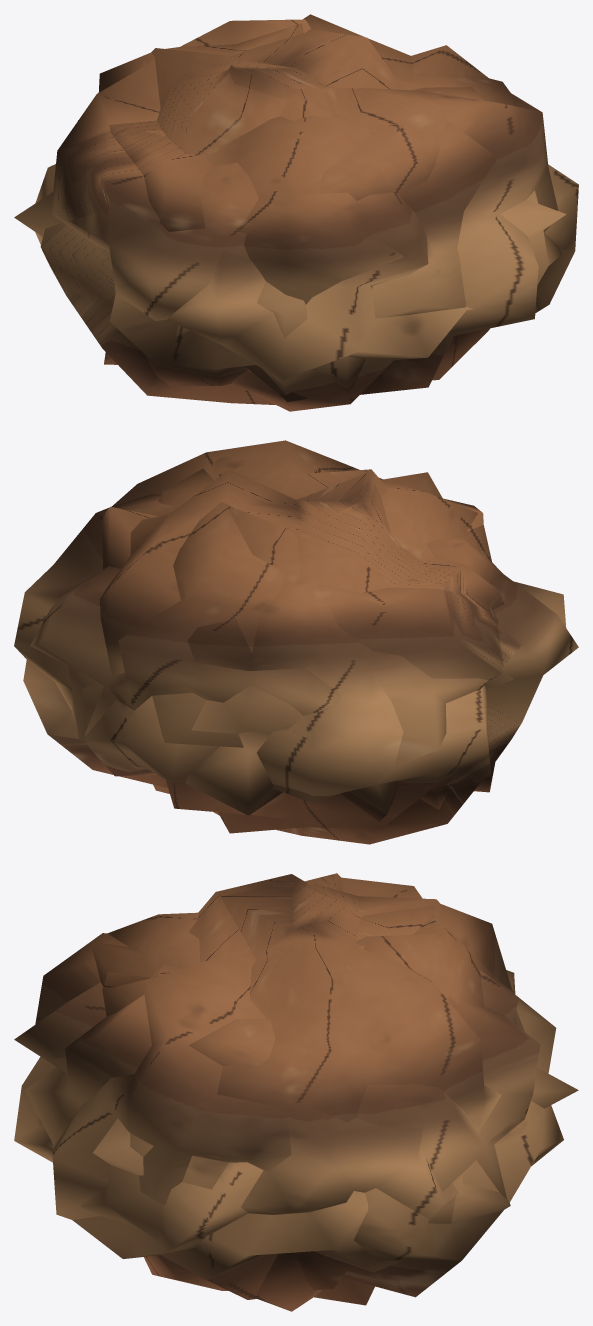
File: rocks.glb
3 views of the same model, one above another, from view 1: azimuth 30°, elevation 25°; view 2: azimuth 150°, elevation 25°; view 3: azimuth 270°, elevation 25° (orthographic). The views are drawn at different scales.
Parts seen in each view (by area): view 1: Rock1, Rock0, Rock2; view 2: Rock2, Rock0, Rock1; view 3: Rock0, Rock1, Rock2.
Boxes of the visible parts, x1,y1,x2,y2 form: Rock1: [35, 23, 558, 404]; Rock0: [14, 14, 564, 395]; Rock2: [51, 19, 578, 411]; Rock2: [23, 468, 566, 844]; Rock0: [14, 465, 578, 809]; Rock1: [68, 440, 504, 833]; Rock0: [25, 881, 563, 1290]; Rock1: [35, 873, 578, 1305]; Rock2: [14, 877, 540, 1311].
Bounding box in the file's own units: 5.89 × 3.97 × 5.66.
Materials: 1 (1 with a texture image).
